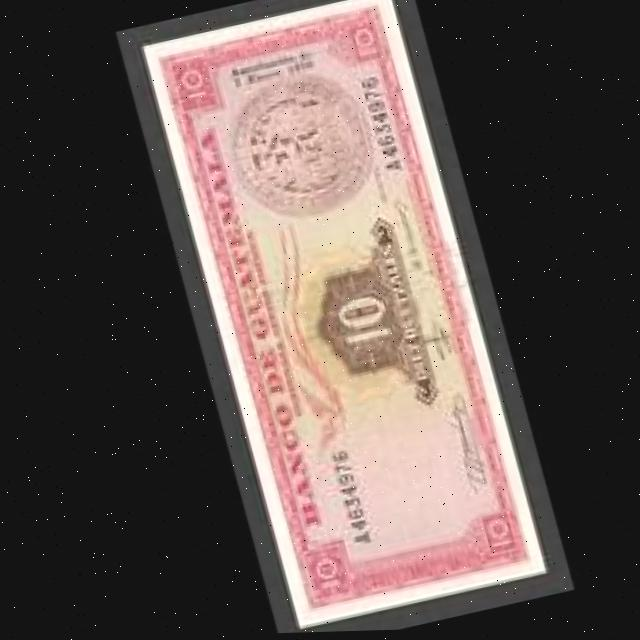banknote: (130, 0, 546, 637)
